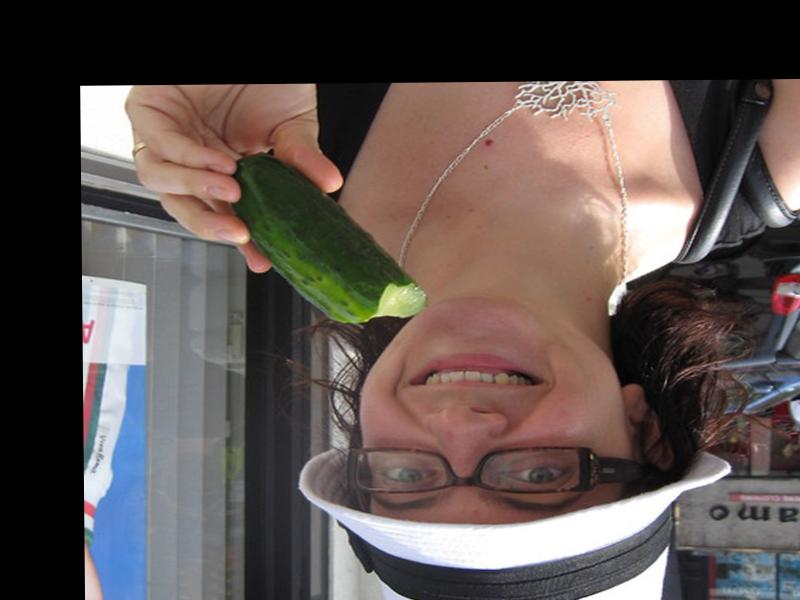Cucumber: (227, 151, 424, 324)
